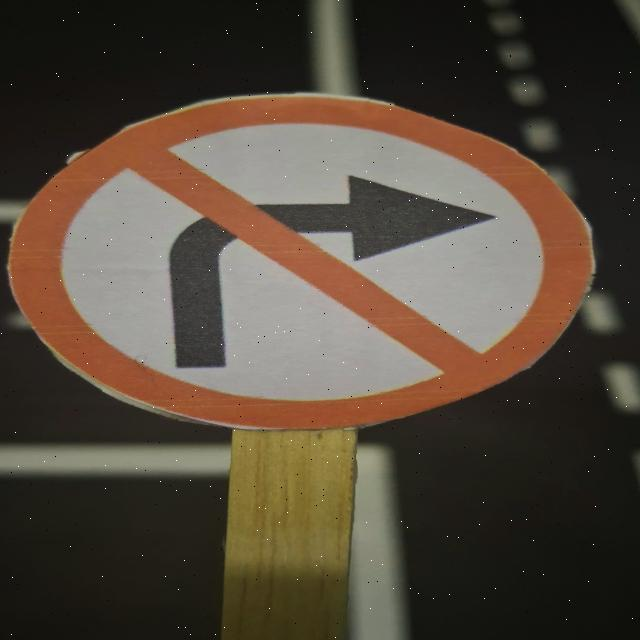Dilarang Belok Kanan: (10, 96, 596, 430)
